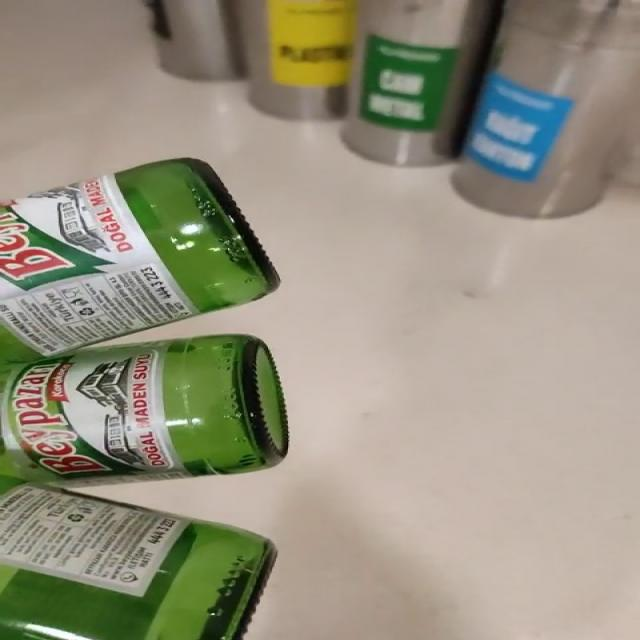glass: (0, 158, 287, 640)
